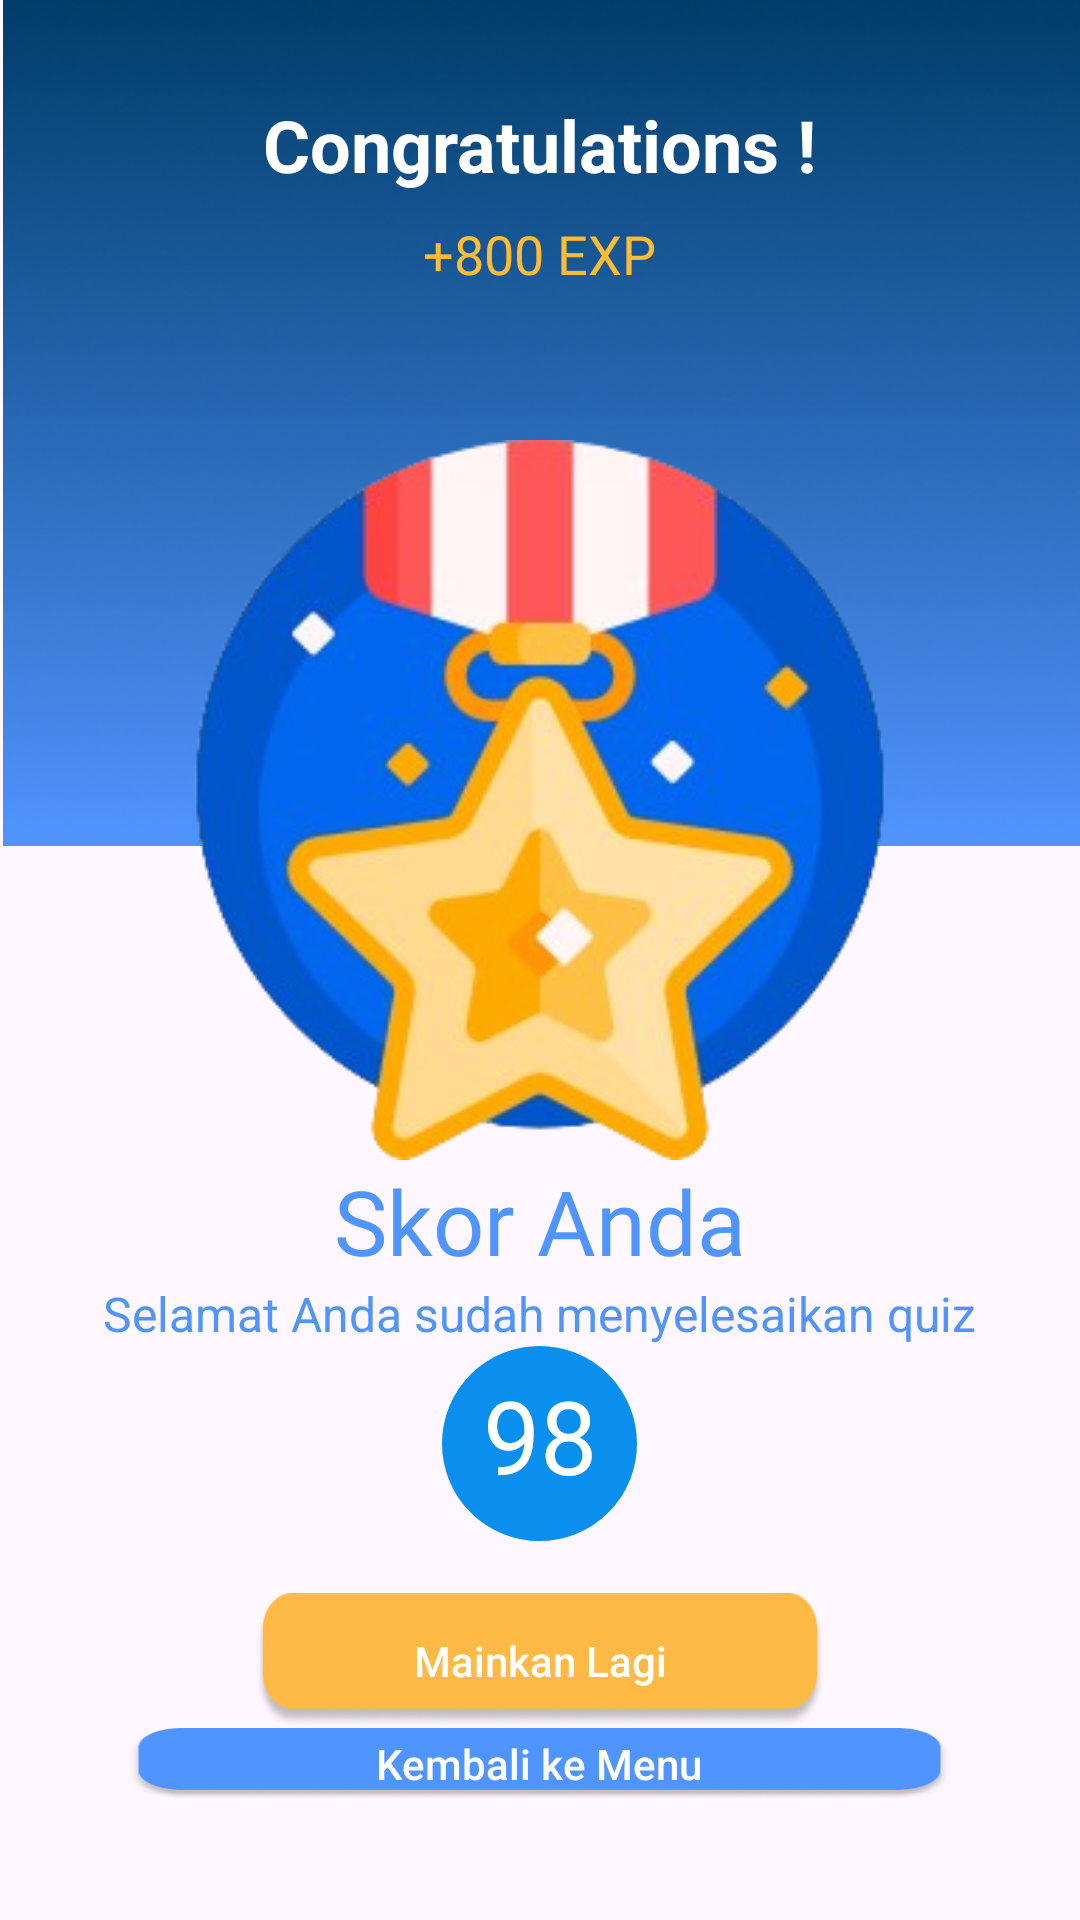

Named icons in this screenshot (1080×1920) and their centers, point (x, y):
circle score: point (539, 1443)
